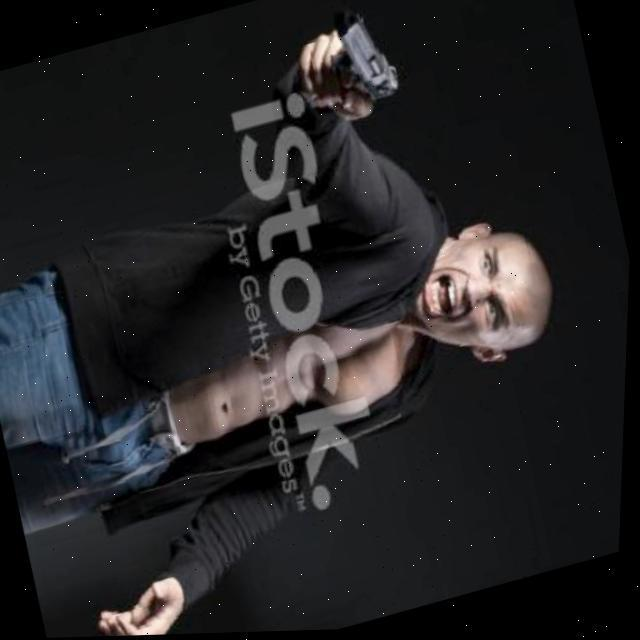gun: (310, 0, 406, 113)
